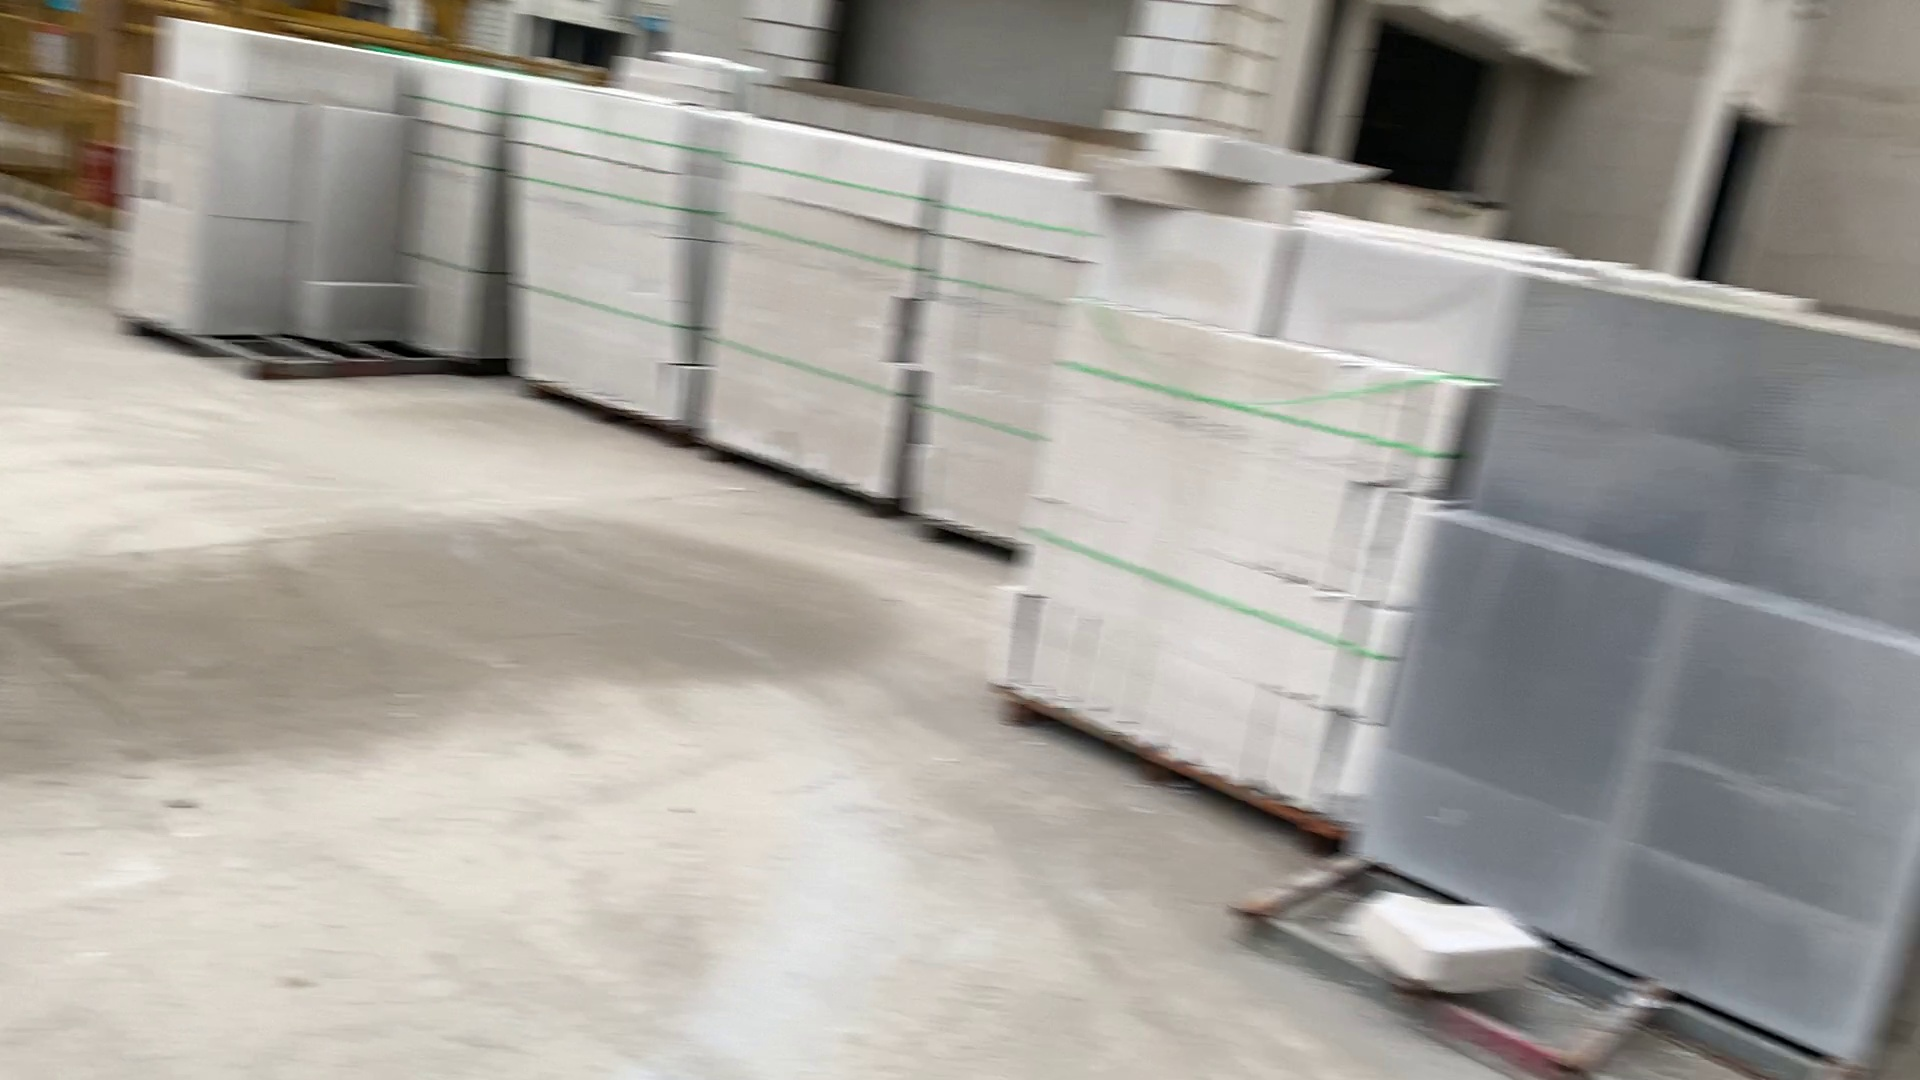brickwork: (1379, 264, 1912, 1062), (1011, 299, 1389, 806), (115, 26, 404, 372), (713, 105, 918, 529), (506, 84, 702, 442), (915, 154, 1062, 549), (406, 58, 502, 369)
